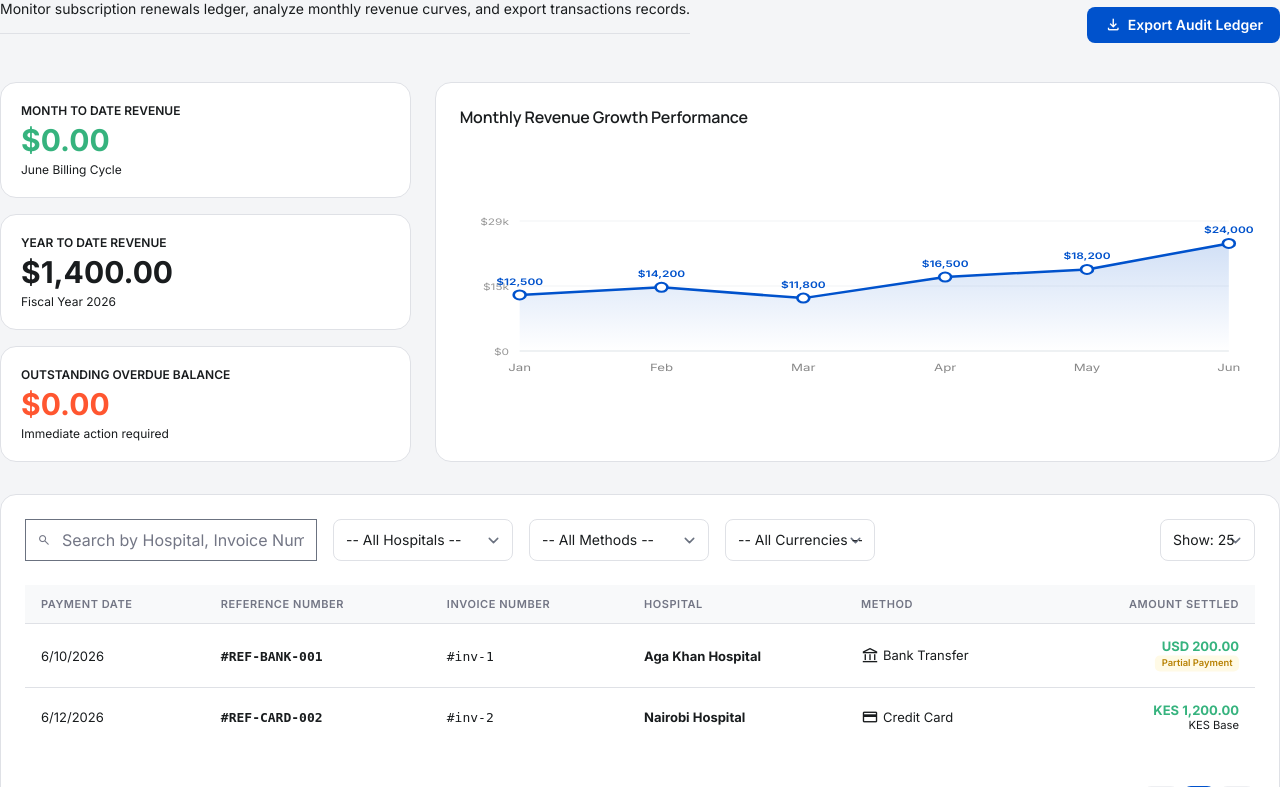
PaymentsPage › filters payments lists by search query
Note: Filter by reference code
In the field with placeholder "Search by Hospital, Invoice Number, Reference...": (171, 540) [25,519,317,561], type "BANK"
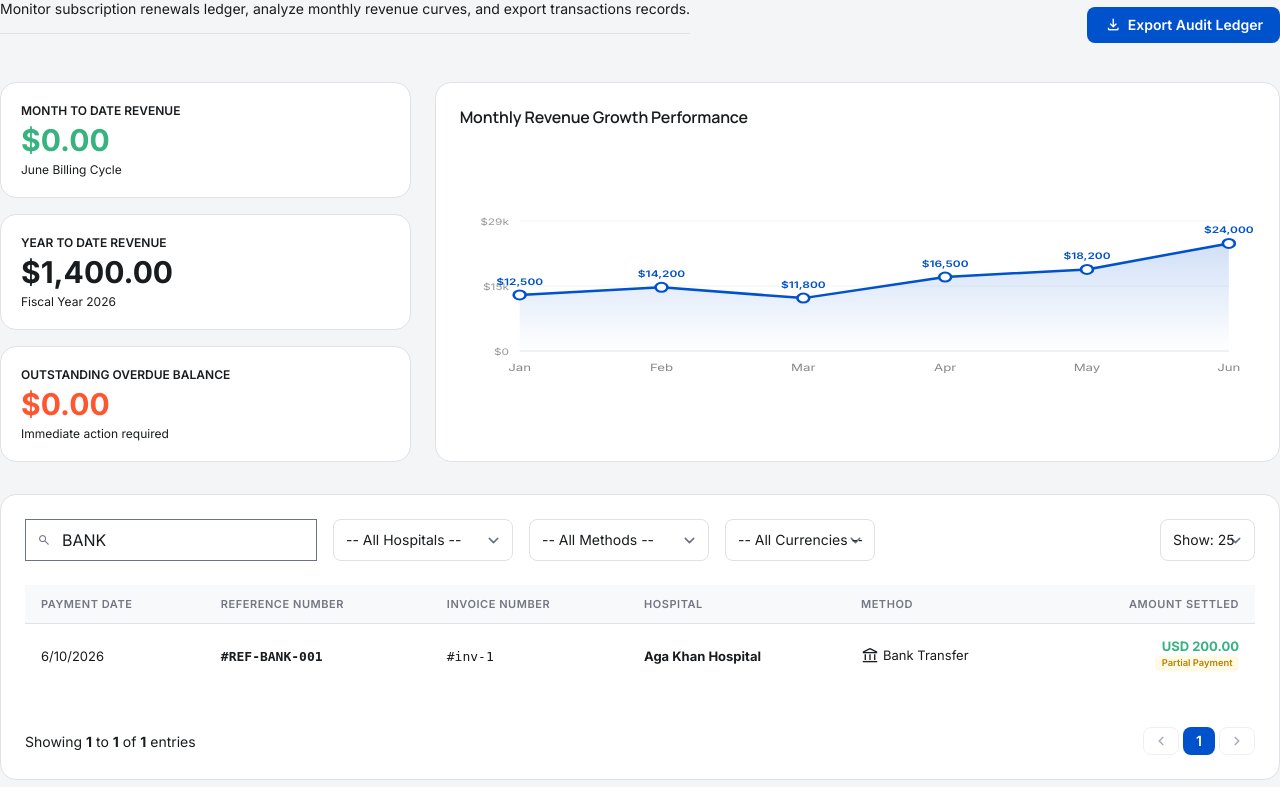
Expected: the text "#REF-BANK-001" is shown, [221,648,323,664]
Expected: the text "#REF-CARD-002" is gone
